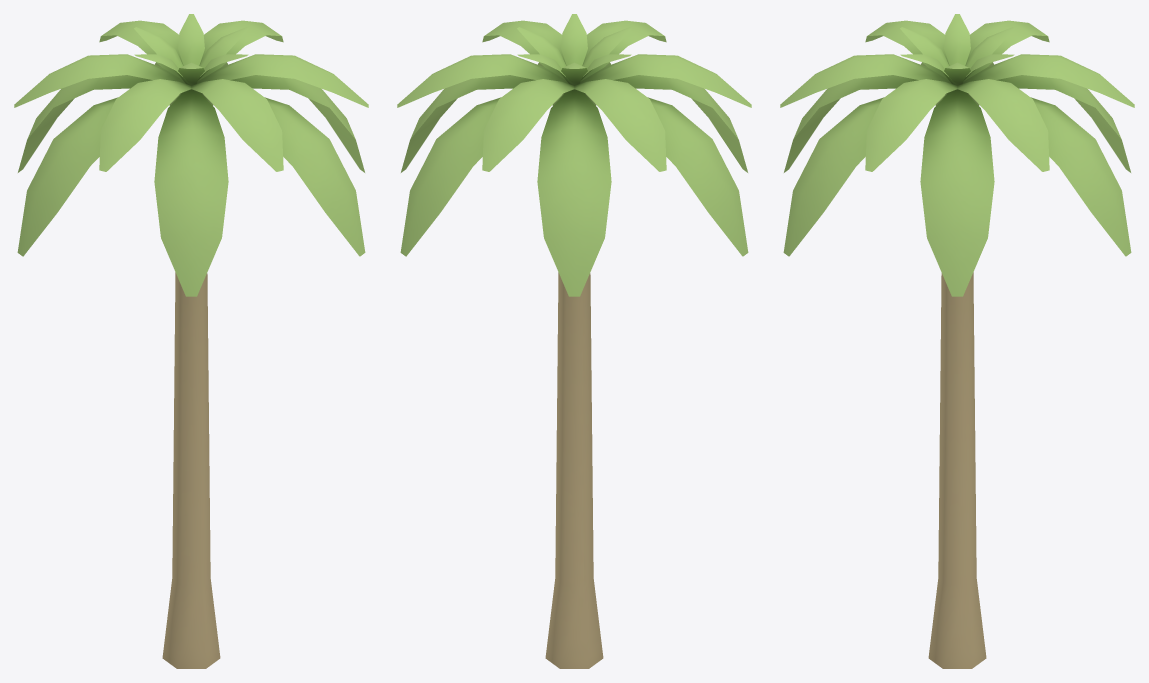
3 renders of one model, left to right at view 1: azimuth 30°, elevation 25°; view 2: azimuth 150°, elevation 25°; view 3: azimuth 270°, elevation 25°, orthographic.
Parts seen in each view (by area): view 1: Palm.004; view 2: Palm.004; view 3: Palm.004.
Part boxes in pixels (left/top/right/bottom): Palm.004: left=14, top=14, right=368, bottom=668; Palm.004: left=397, top=14, right=751, bottom=668; Palm.004: left=780, top=14, right=1134, bottom=668.
Bounding box in the file's own units: 11.62 × 20.01 × 10.42.
Materials: 1 (1 with a texture image).
